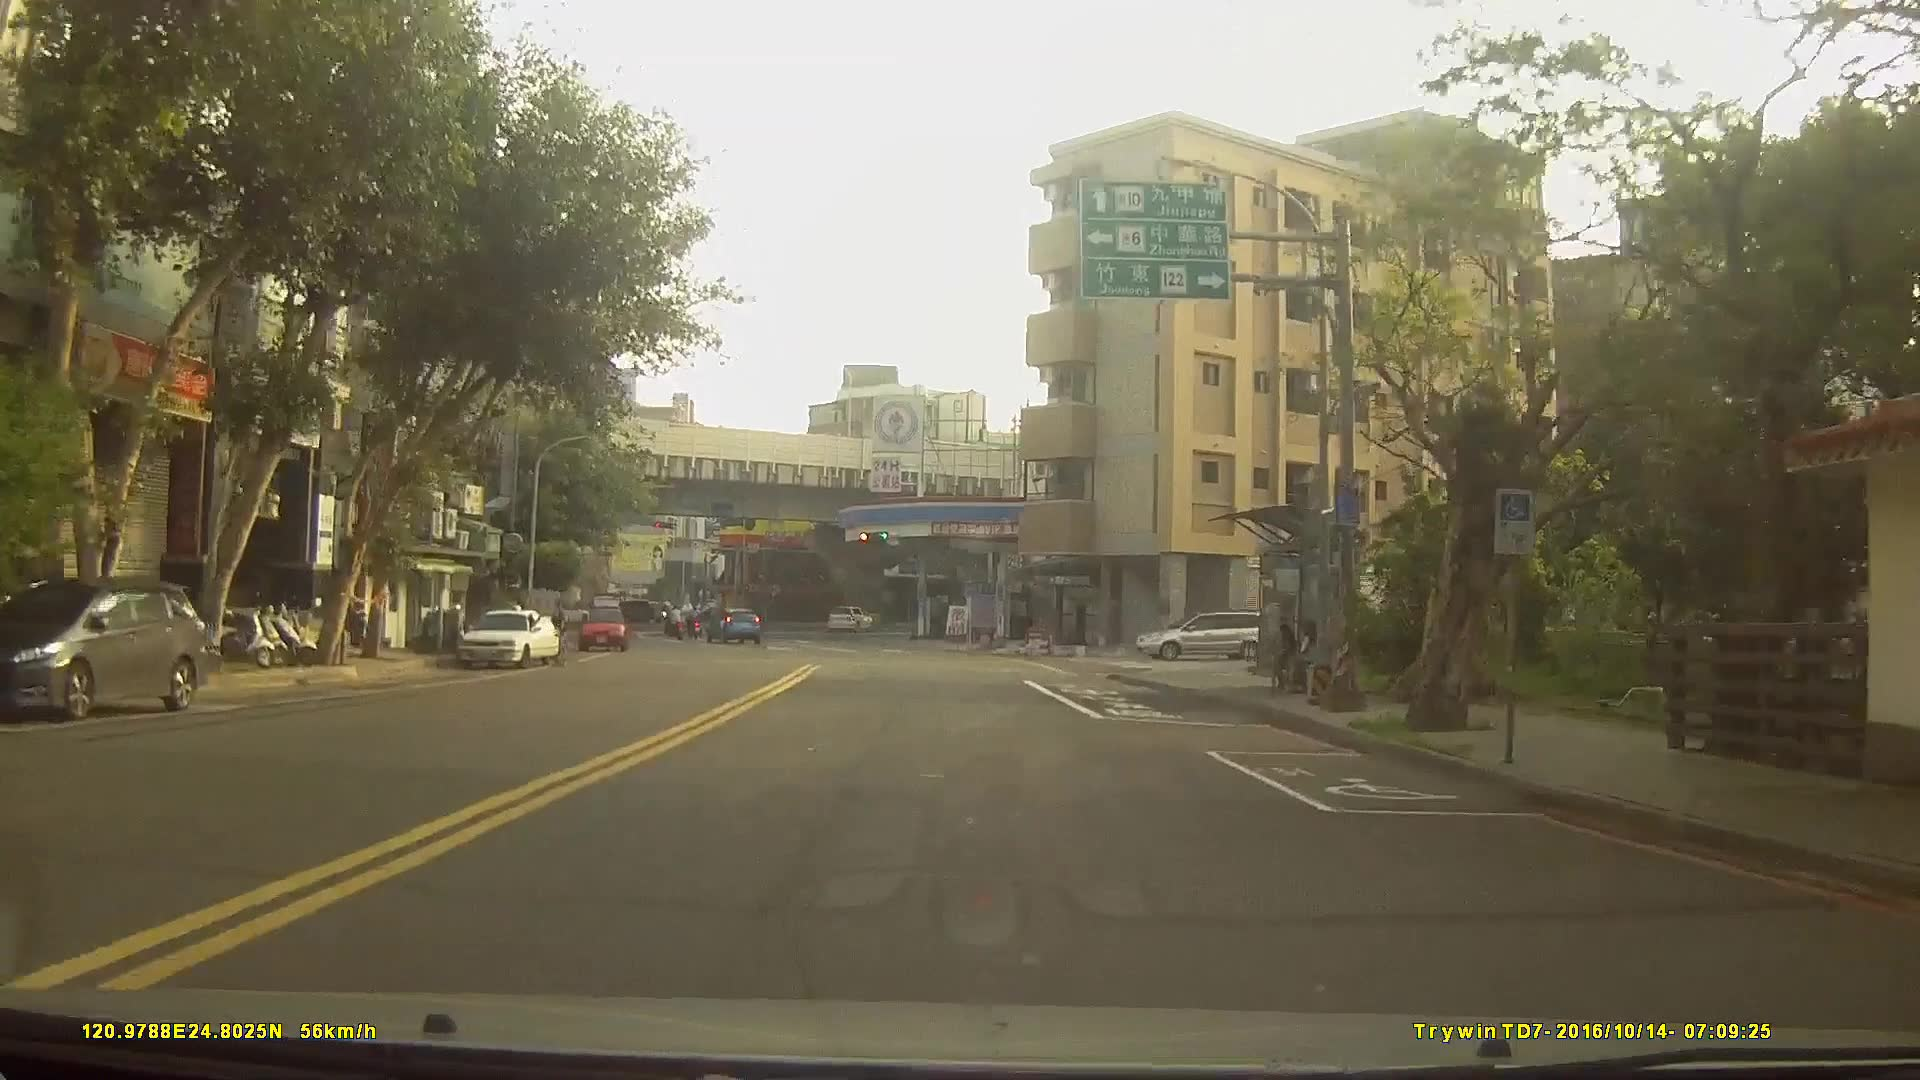pedestrian: (1298, 617, 1324, 707)
rider: (663, 604, 685, 643)
vehicle: (0, 574, 212, 721), (1134, 608, 1269, 660), (456, 608, 561, 669), (579, 604, 628, 653), (703, 606, 761, 645), (827, 605, 872, 633)
